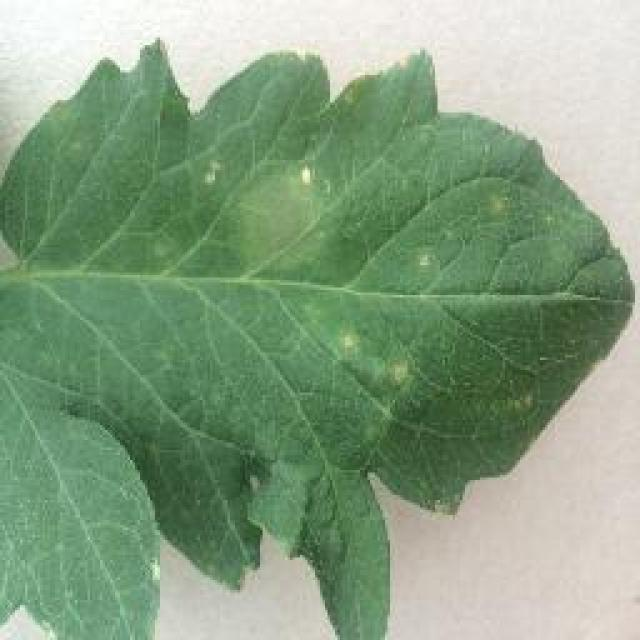Tomato___Late_blight: (0, 40, 635, 638)
